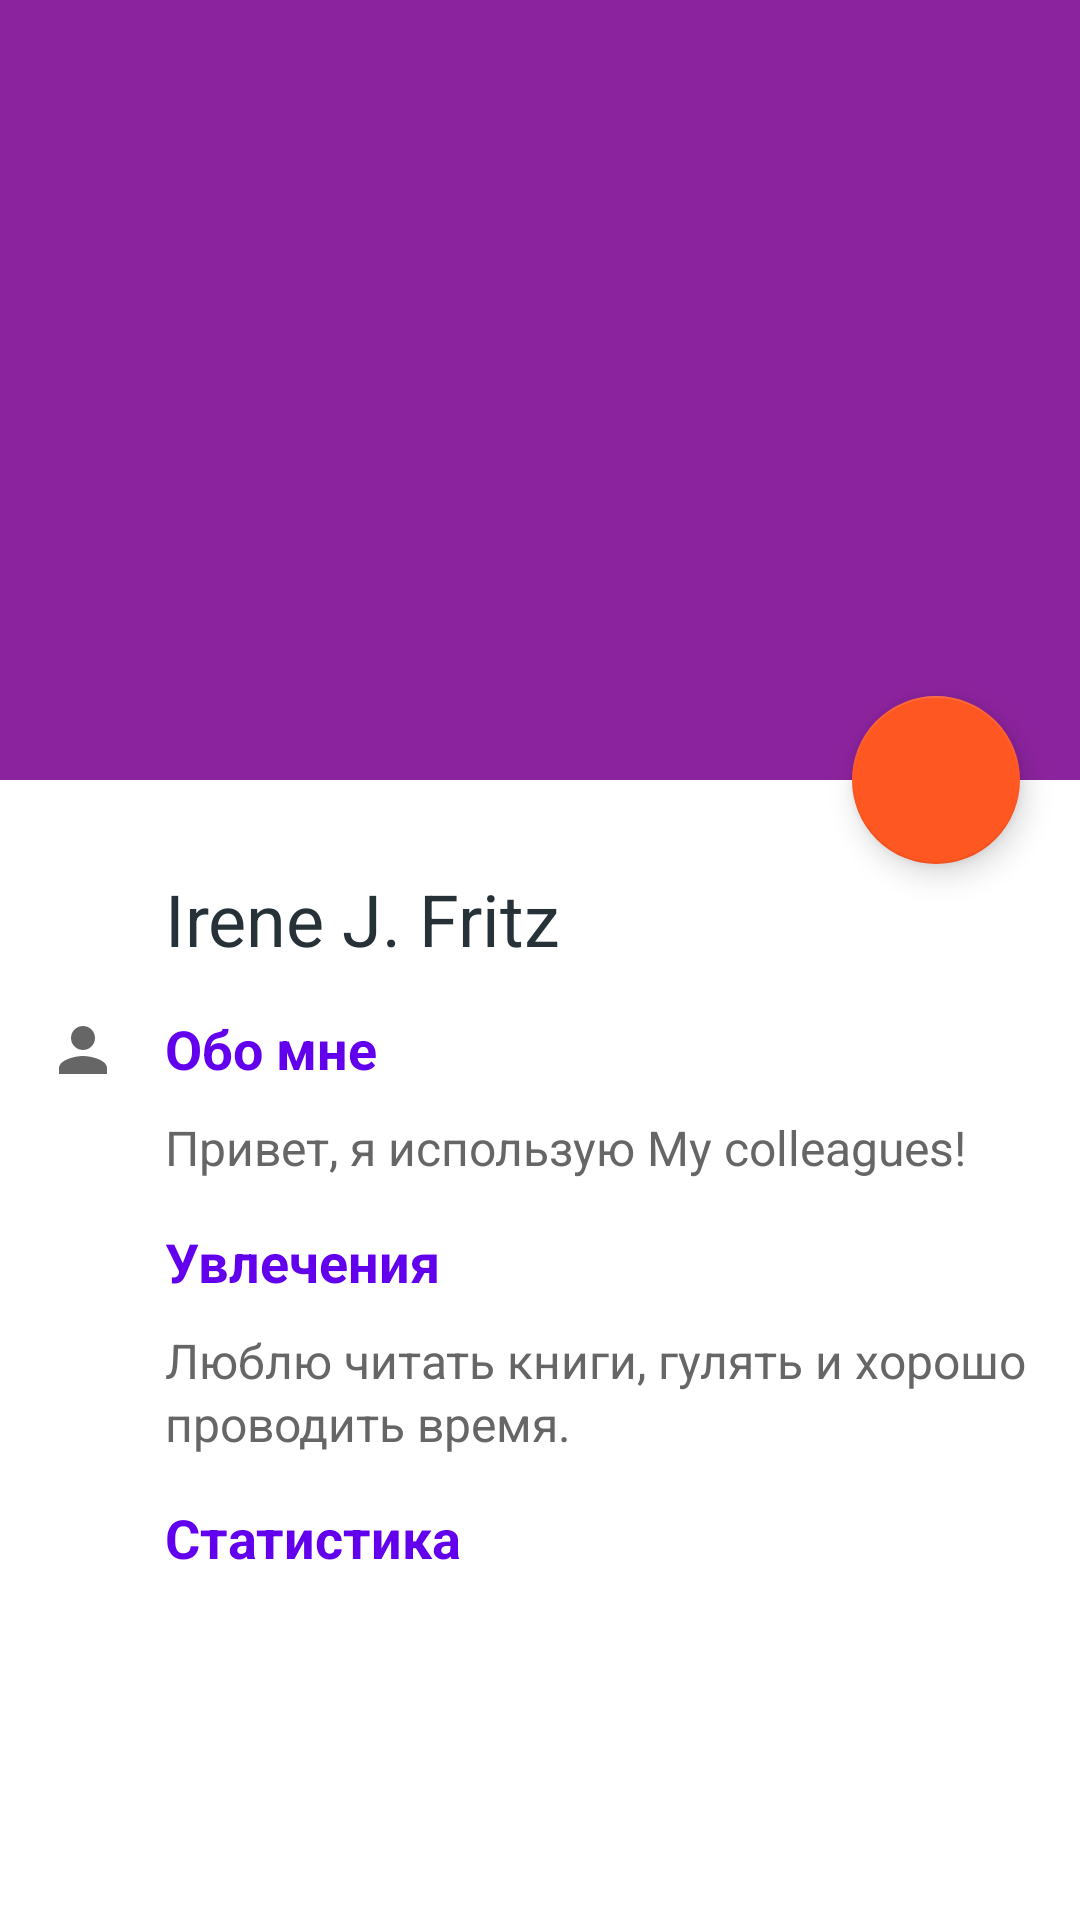

Icons on this 1080x1920 Android screen, each with the point to tap as (x=x, y=y):
person: (x=83, y=1050)
